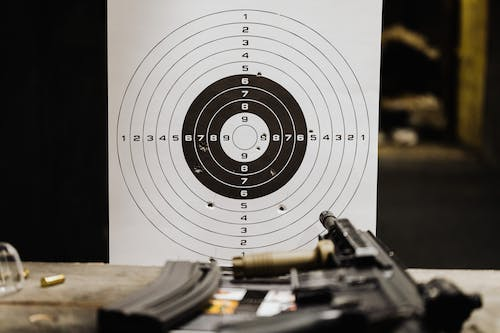gun: (212, 207, 484, 333)
